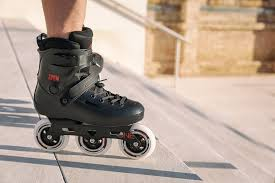roller_blate: (32, 35, 156, 158)
